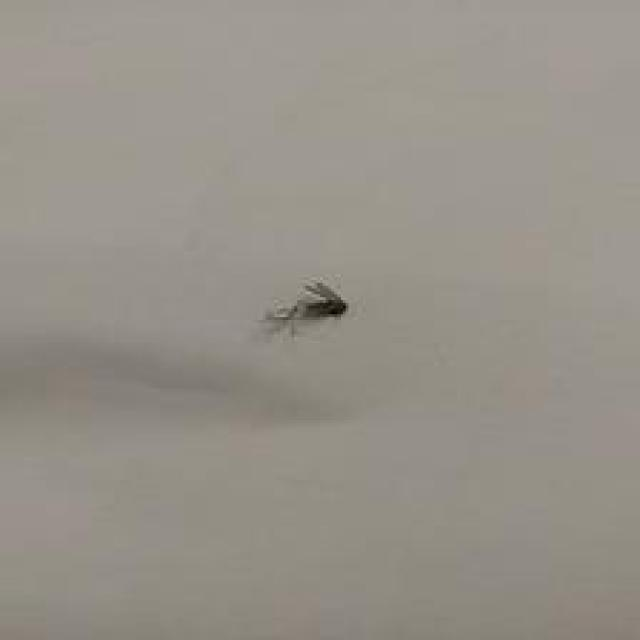Culex: (260, 278, 349, 338)
